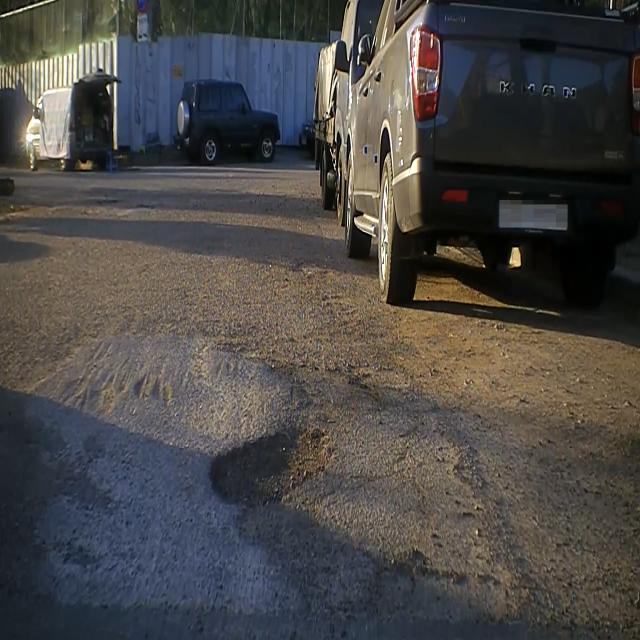Pothole: (198, 420, 342, 518)
